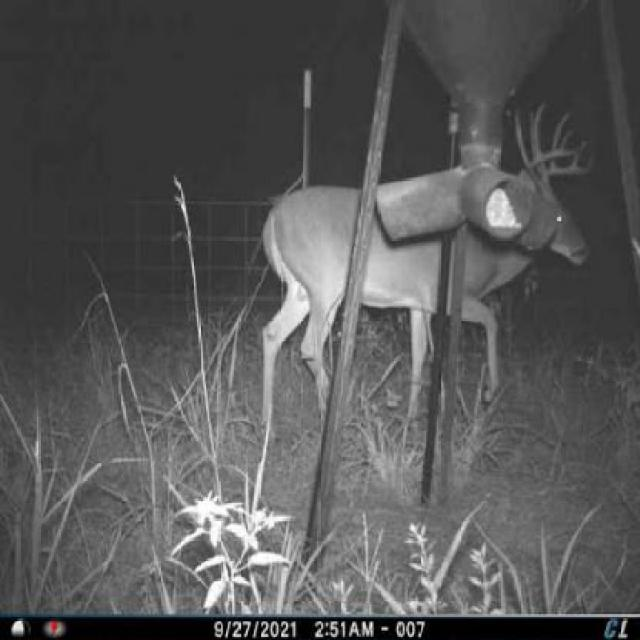Deer: (248, 80, 600, 449)
